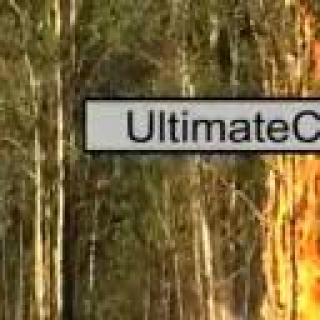fire: (259, 158, 320, 320), (262, 8, 320, 101)
